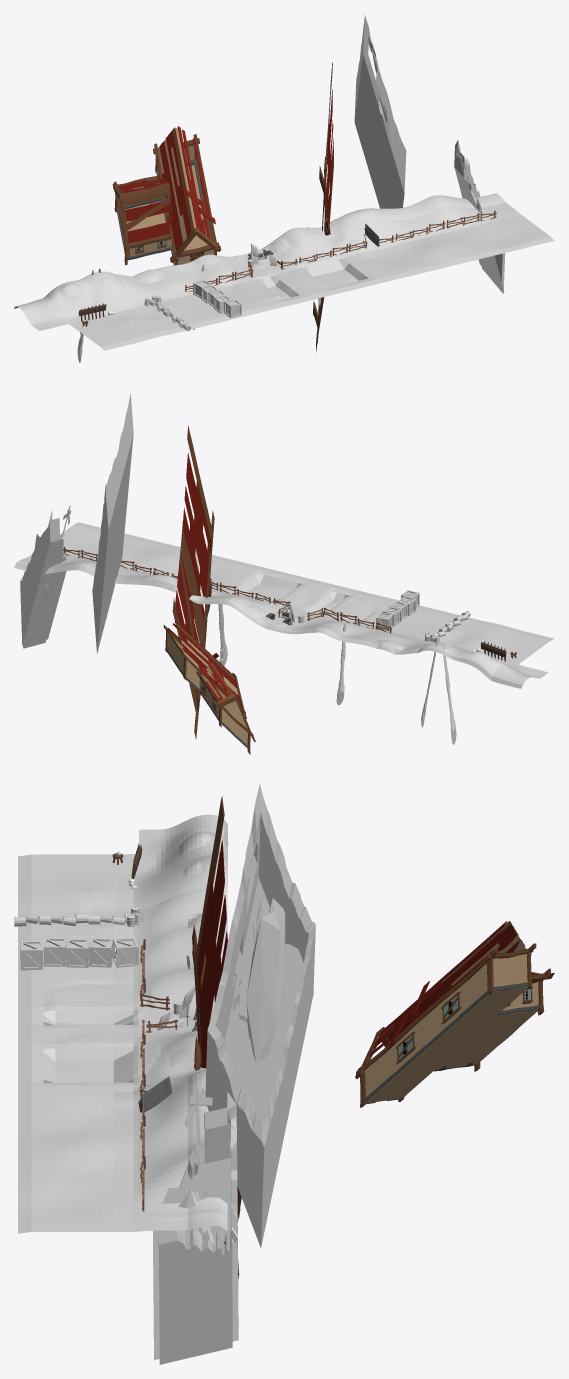
File: Bolum2_Deneme_1.fbx
The picture shows the model from 3 angles, top to bottom: view 1: azimuth 30°, elevation 25°; view 2: azimuth 150°, elevation 25°; view 3: azimuth 270°, elevation 25°; orthographic projection. The views are drawn at different scales.
Visible parts, largest first — view 1: Arazi, govde_02.001, YikikBina2, YikikBina1, cati.003, Dash2, Jump2, Dash1; view 2: Arazi, cati.003, YikikBina2, govde_02.001, YikikBina1, Dash2, Jump2, Dash1; view 3: Arazi, YikikBina2, govde_02.001, YikikBina1, cati.003, Jump2, Dash2, Jump1, Dash1.
Boxes of the visible parts, x1,y1,x2,y2 form: Arazi: [14, 193, 554, 350]; govde_02.001: [112, 126, 221, 265]; YikikBina2: [354, 14, 406, 208]; YikikBina1: [454, 140, 505, 293]; cati.003: [313, 62, 333, 352]; Dash2: [302, 259, 368, 288]; Jump2: [193, 279, 241, 317]; Dash1: [258, 276, 299, 299]; Arazi: [14, 522, 554, 688]; cati.003: [172, 425, 214, 739]; YikikBina2: [92, 393, 133, 653]; govde_02.001: [163, 621, 255, 754]; YikikBina1: [20, 505, 71, 648]; Dash2: [232, 573, 302, 602]; Jump2: [376, 590, 419, 631]; Dash1: [305, 591, 349, 615]; Arazi: [18, 814, 228, 1233]; YikikBina2: [205, 783, 315, 1247]; govde_02.001: [355, 921, 554, 1107]; YikikBina1: [153, 1085, 238, 1364]; cati.003: [192, 795, 241, 1278]; Jump2: [20, 937, 138, 970]; Dash2: [43, 1047, 133, 1082]; Jump1: [14, 905, 142, 926]; Dash1: [43, 1010, 133, 1025].
Size of the model in its own units: 8552 by 5452 by 4855.
